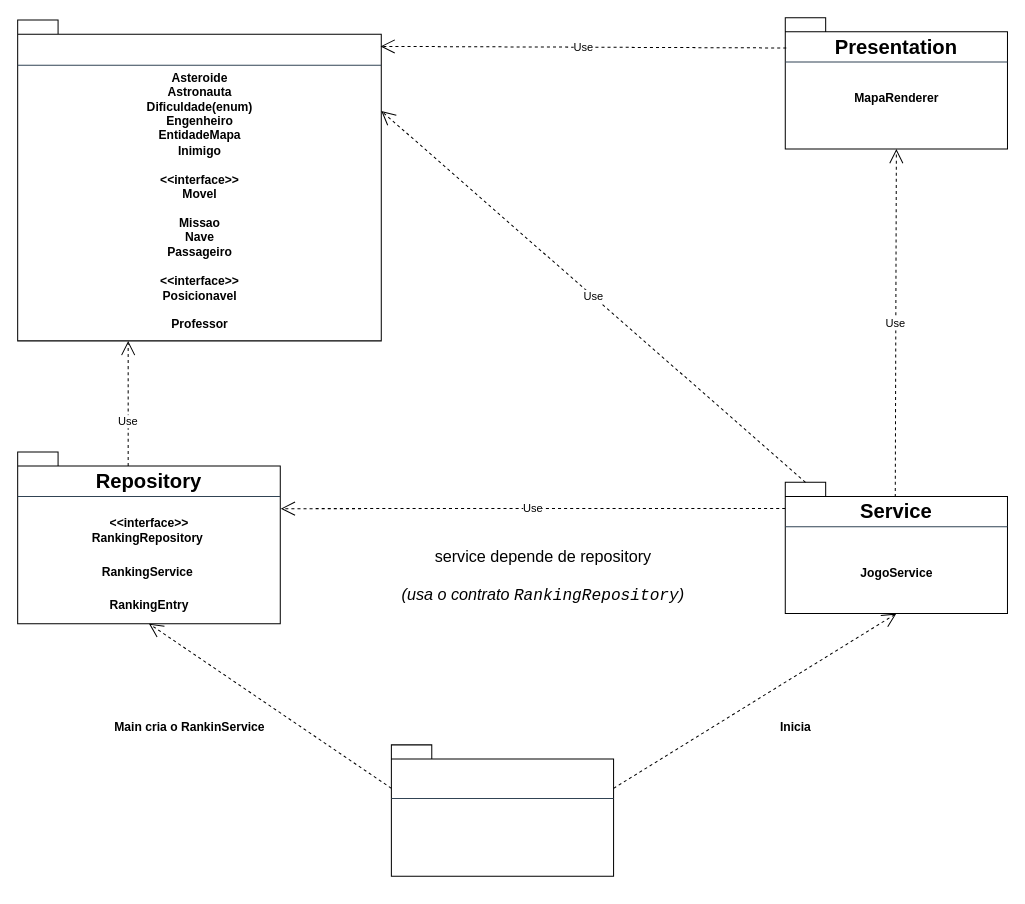
This 1025x904 diagram has some shape labels left out. The box of each missing label's shape, as (x1, y1, x2, y2) in pixels:
Main: (390, 744, 614, 876)
Model: (17, 19, 381, 341)
